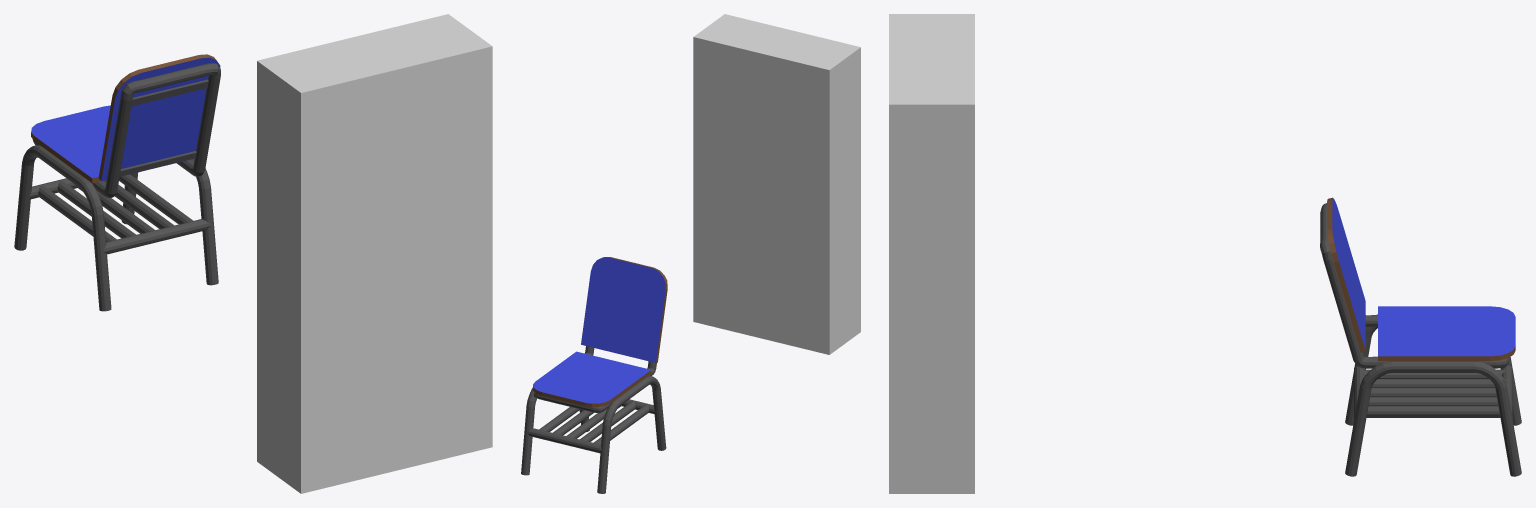
The model's file is Silla2.fbx.
The picture shows the model from 3 angles, left to right: view 1: azimuth 30°, elevation 25°; view 2: azimuth 150°, elevation 25°; view 3: azimuth 270°, elevation 25°; orthographic projection. The views are drawn at different scales.
Visible parts, largest first — view 1: Cube, Cylinder; view 2: Cube, Cylinder; view 3: Cube, Cylinder.
Part boxes in pixels (x1,y1,x2,y2): Cube: (257, 14, 492, 493); Cylinder: (14, 54, 220, 311); Cube: (693, 14, 860, 354); Cylinder: (521, 257, 667, 493); Cube: (889, 14, 974, 493); Cylinder: (1320, 197, 1521, 476).
Size of the model in its own units: 100 by 200 by 295.
